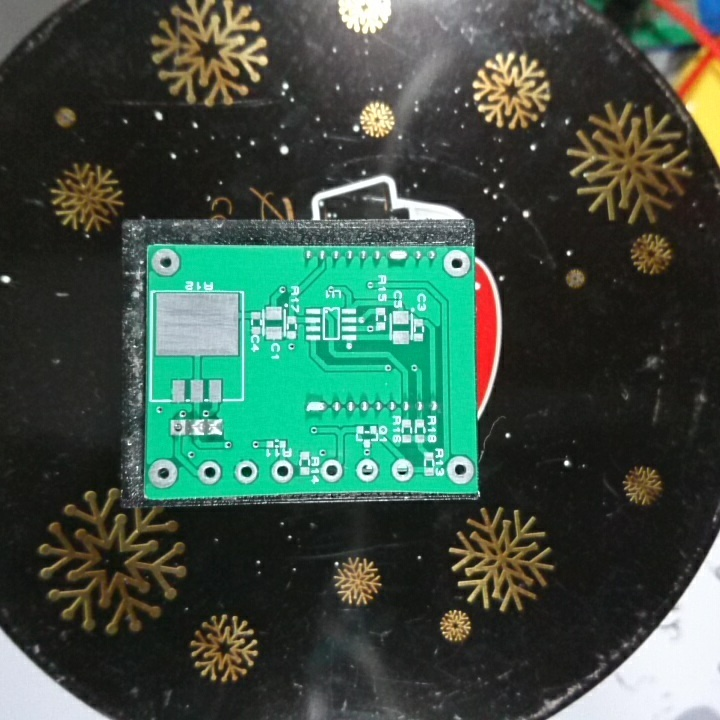F: (149, 246, 183, 280), (147, 458, 179, 490), (439, 249, 472, 280), (444, 453, 474, 486), (232, 459, 262, 488), (353, 457, 381, 485), (196, 459, 223, 486), (270, 457, 294, 487), (389, 458, 416, 484), (318, 458, 344, 483), (168, 418, 189, 441)
P: (302, 397, 330, 419), (385, 246, 409, 267)
